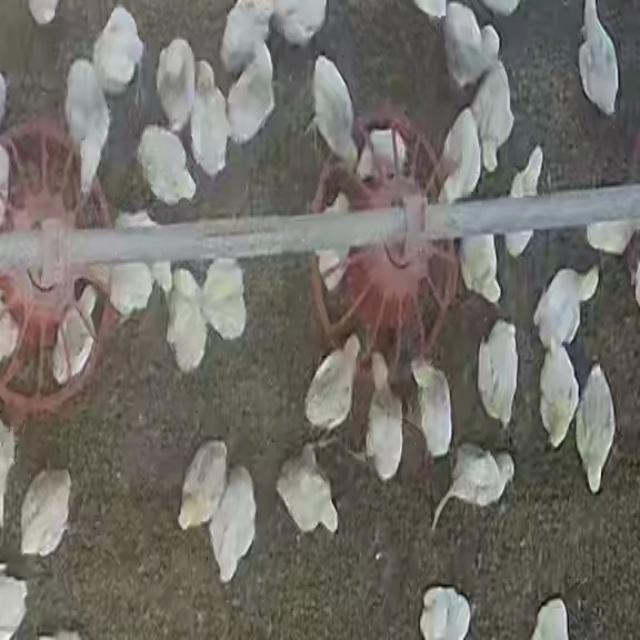chicken: (428, 441, 518, 530), (531, 265, 602, 351), (64, 61, 108, 199), (103, 213, 159, 319), (210, 463, 258, 580), (364, 351, 406, 483), (310, 56, 359, 169), (304, 328, 359, 428), (278, 456, 340, 540), (442, 3, 504, 85), (19, 466, 74, 558), (226, 41, 275, 144), (189, 60, 231, 178), (576, 365, 615, 492), (577, 0, 619, 116), (502, 147, 544, 262), (166, 265, 211, 371), (51, 288, 99, 387), (137, 126, 195, 207), (93, 5, 144, 97), (470, 61, 513, 170), (179, 439, 227, 530), (314, 187, 354, 296), (539, 344, 579, 451), (412, 358, 452, 462), (482, 322, 520, 430), (220, 1, 274, 75), (436, 110, 479, 202), (155, 38, 196, 131), (208, 252, 251, 340), (459, 234, 502, 306), (419, 585, 472, 640)
